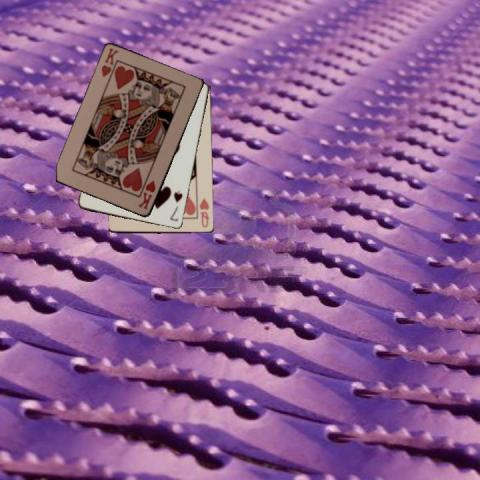7s: (167, 188, 184, 223)
Kh: (136, 177, 158, 211), (99, 45, 120, 79)
Qh: (196, 196, 210, 229)
